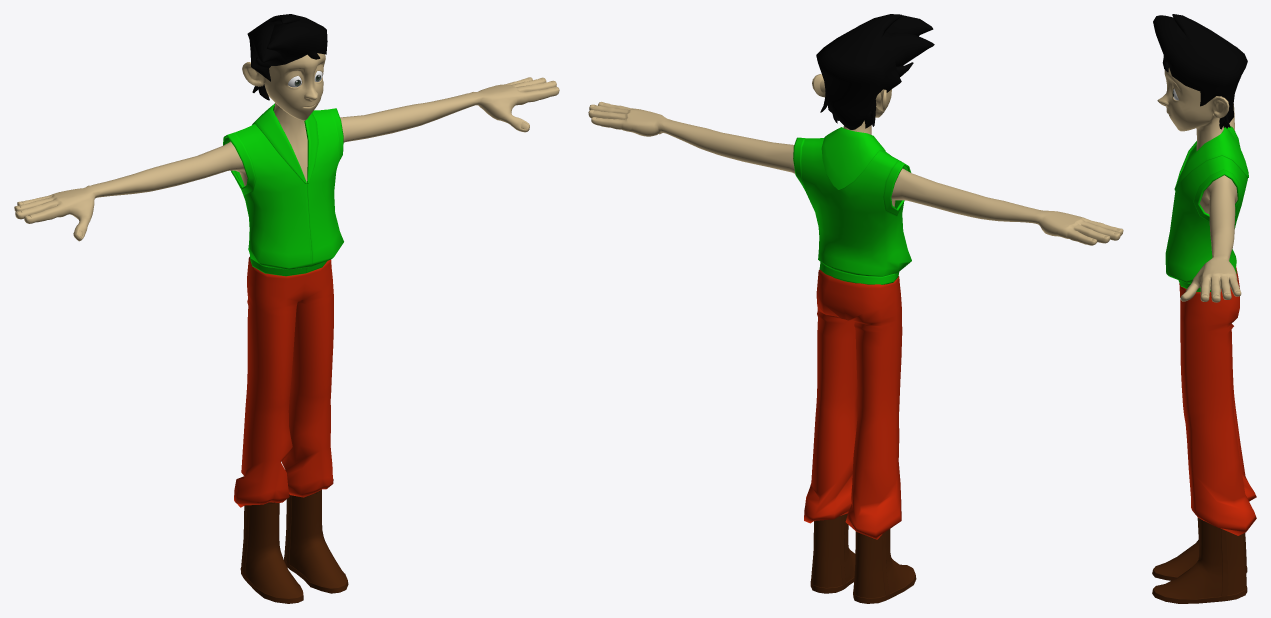
The model's file is npc-1.fbx.
3 views of the same model, side by side, from view 1: azimuth 30°, elevation 25°; view 2: azimuth 150°, elevation 25°; view 3: azimuth 270°, elevation 25° (orthographic). The views are drawn at different scales.
Visible parts, largest first — view 1: Boy_pants_ply, Boy_body_ply, Boy_jacket_ply, Boy_shoeRgt_ply, Boy_shoeLft_ply, Boy_hair_ply; view 2: Boy_pants_ply, Boy_jacket_ply, Boy_body_ply, Boy_hair_ply, Boy_shoeRgt_ply, Boy_shoeLft_ply; view 3: Boy_pants_ply, Boy_jacket_ply, Boy_body_ply, Boy_hair_ply, Boy_shoeLft_ply, Boy_shoeRgt_ply.
Boxes of the visible parts, left/top/right/bottom form: Boy_pants_ply: left=234, top=257, right=333, bottom=507; Boy_body_ply: left=14, top=53, right=559, bottom=241; Boy_jacket_ply: left=223, top=103, right=343, bottom=276; Boy_shoeRgt_ply: left=240, top=502, right=303, bottom=603; Boy_shoeLft_ply: left=284, top=489, right=348, bottom=593; Boy_hair_ply: left=247, top=14, right=327, bottom=100; Boy_pants_ply: left=804, top=269, right=902, bottom=539; Boy_jacket_ply: left=793, top=127, right=911, bottom=284; Boy_body_ply: left=588, top=74, right=1123, bottom=245; Boy_hair_ply: left=816, top=14, right=934, bottom=129; Boy_shoeRgt_ply: left=853, top=529, right=916, bottom=603; Boy_shoeLft_ply: left=810, top=513, right=855, bottom=593; Boy_pants_ply: left=1179, top=266, right=1256, bottom=535; Boy_jacket_ply: left=1165, top=126, right=1248, bottom=291; Boy_body_ply: left=1157, top=68, right=1241, bottom=302; Boy_hair_ply: left=1153, top=14, right=1247, bottom=129; Boy_shoeLft_ply: left=1152, top=517, right=1247, bottom=603; Boy_shoeRgt_ply: left=1152, top=533, right=1247, bottom=580.
Size of the model in its own units: 6.02 by 6.14 by 1.04.
